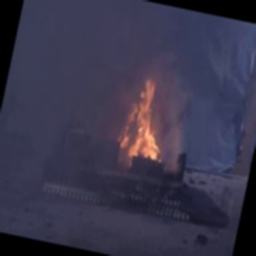fire: (116, 75, 174, 165)
